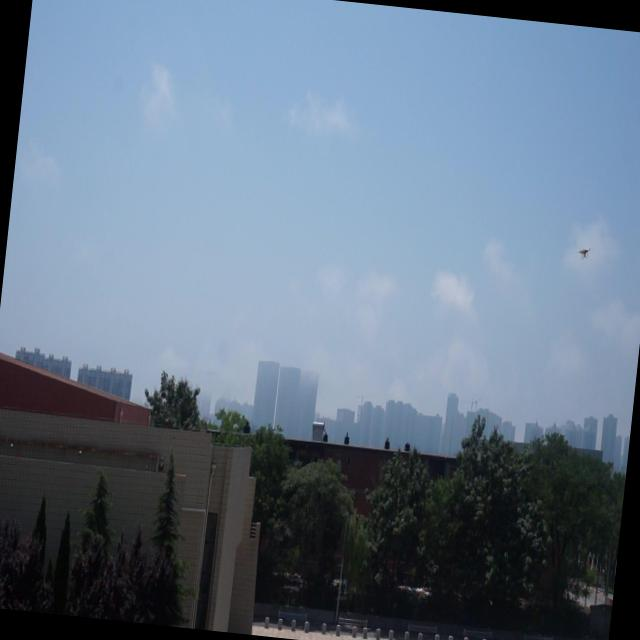drone: (576, 242, 593, 263)
